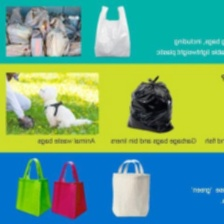plastic_bag: (120, 72, 177, 133), (92, 4, 132, 60)
